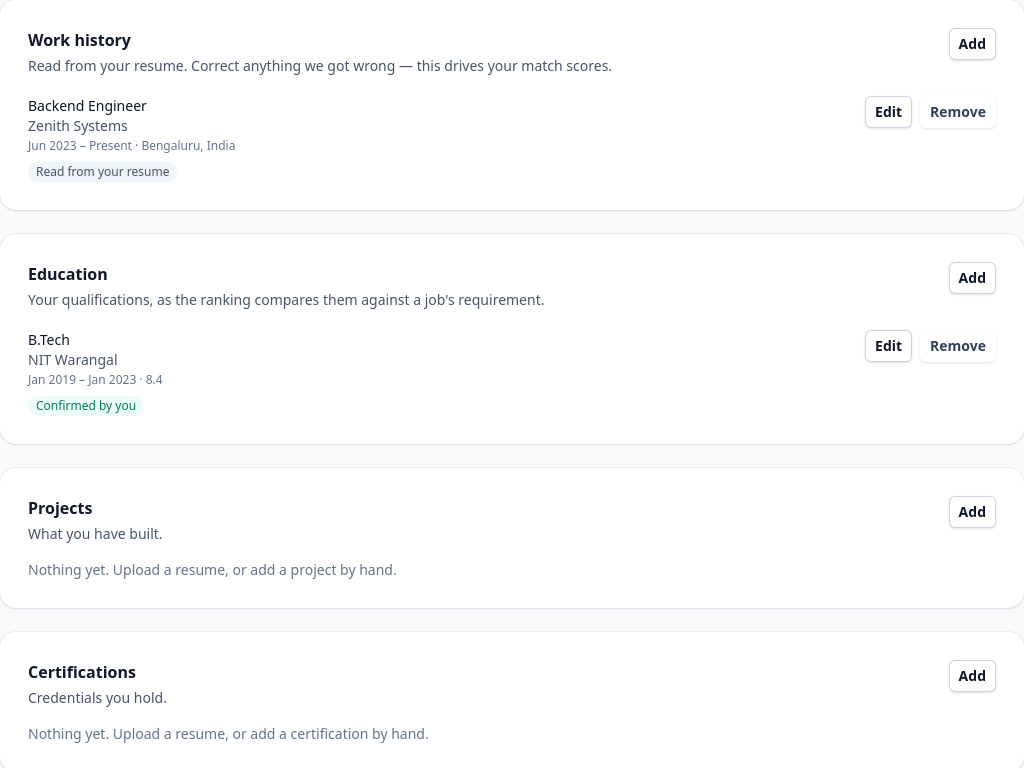
Test: CareerProfile › removing › warns that a resume-derived entry comes back on re-extract
This screenshot has width=1024, height=768.
Check: the text "Backend Engineer" is shown, box [28,96,147,115]
Click the button "Remove" in the row of "Backend Engineer": (958, 112) [920,96,996,128]
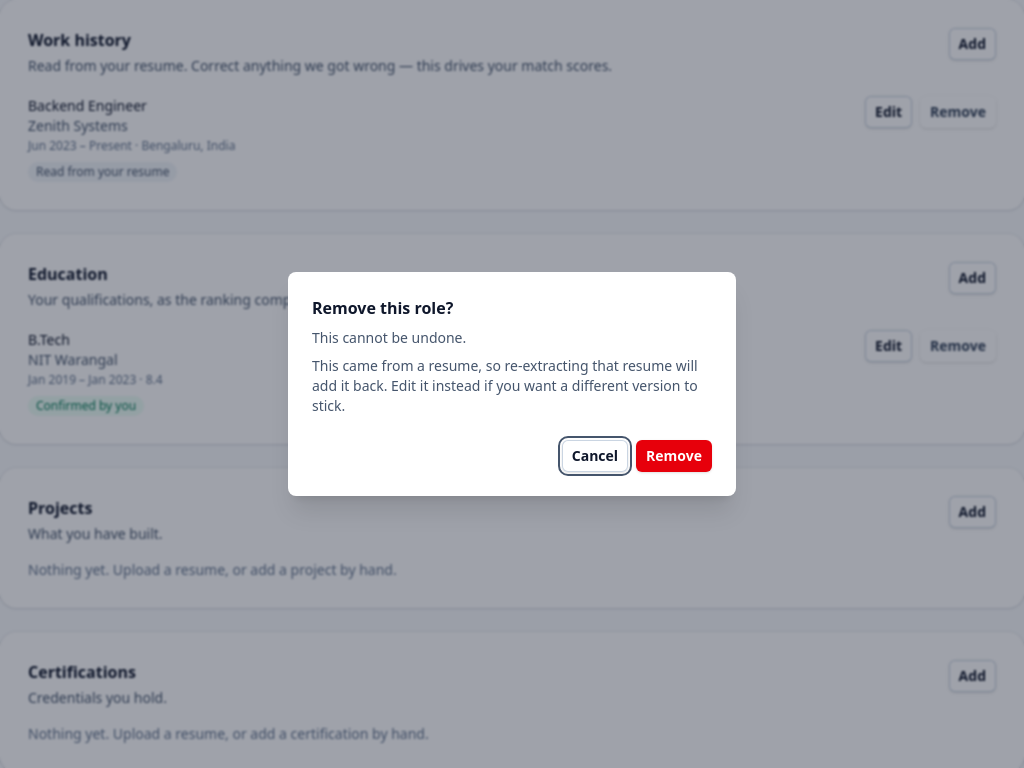
Check: the text "re-extracting that resume will add it back" is shown, box [312,356,698,415]
